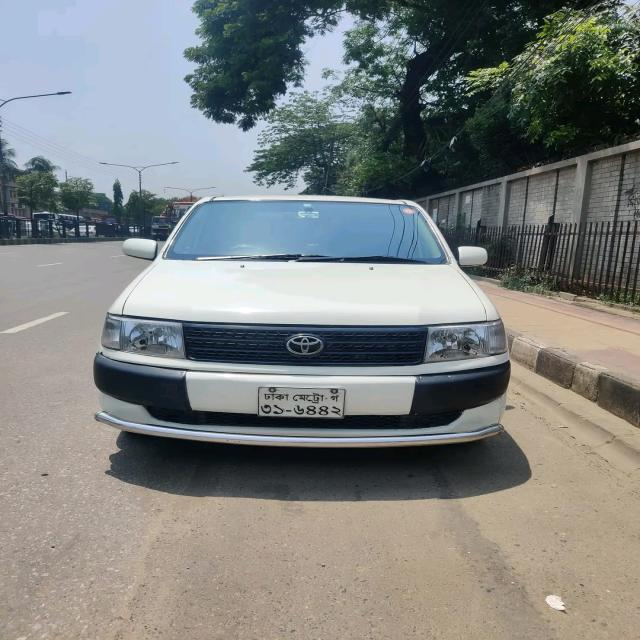car: (113, 170, 508, 467)
